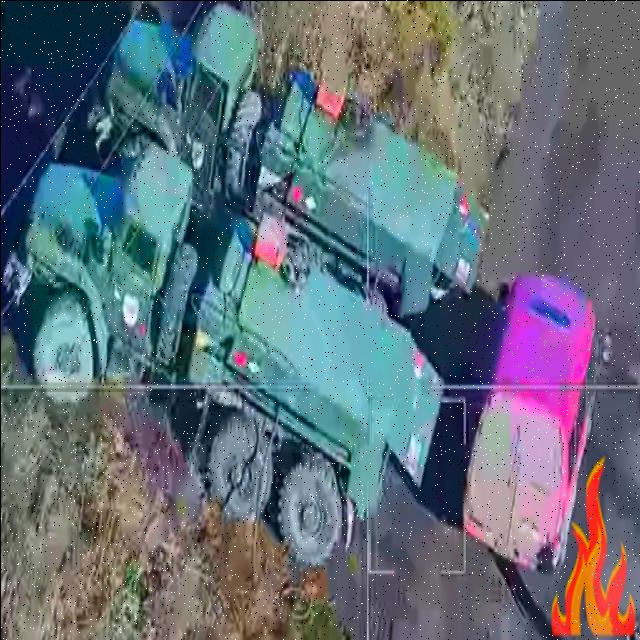CAR: (462, 258, 610, 564)
TRUCK: (20, 148, 411, 564), (105, 3, 460, 343)
